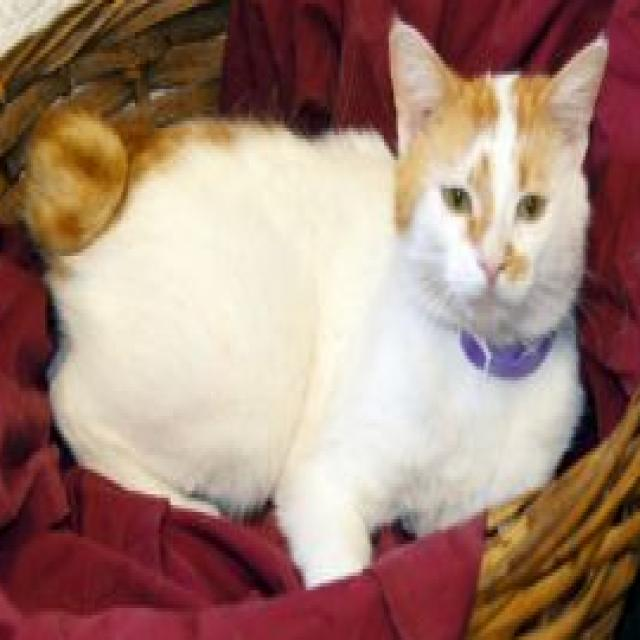American Bobtail: (22, 14, 616, 594)
